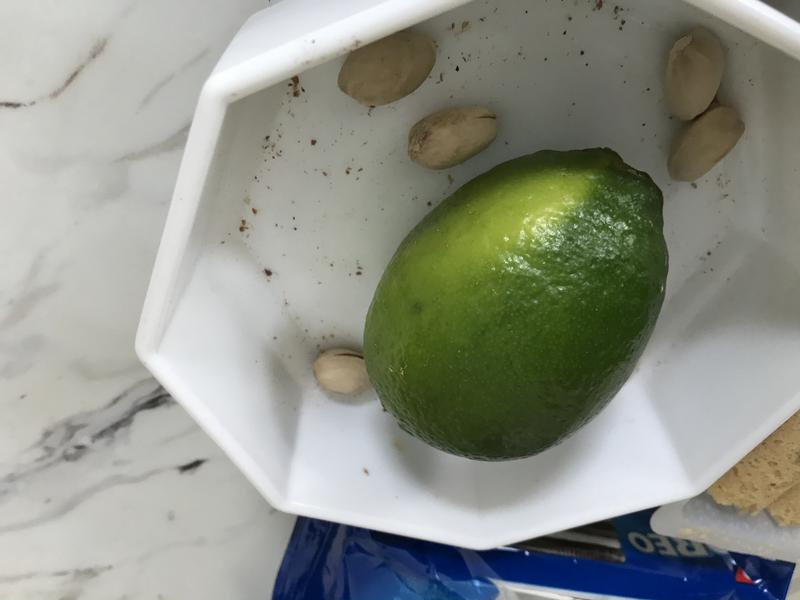lime: (350, 134, 685, 469)
